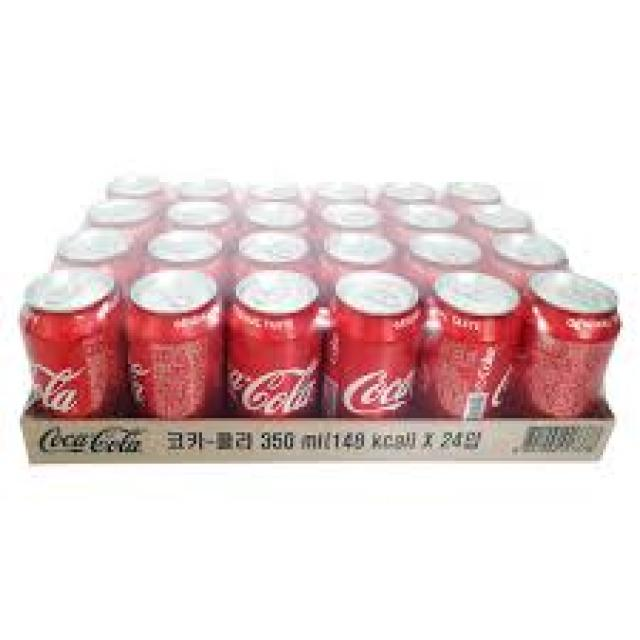Coca-Cola: (11, 270, 127, 465), (127, 265, 229, 459), (525, 270, 619, 462), (329, 268, 422, 457), (422, 272, 514, 458), (232, 271, 323, 458)
